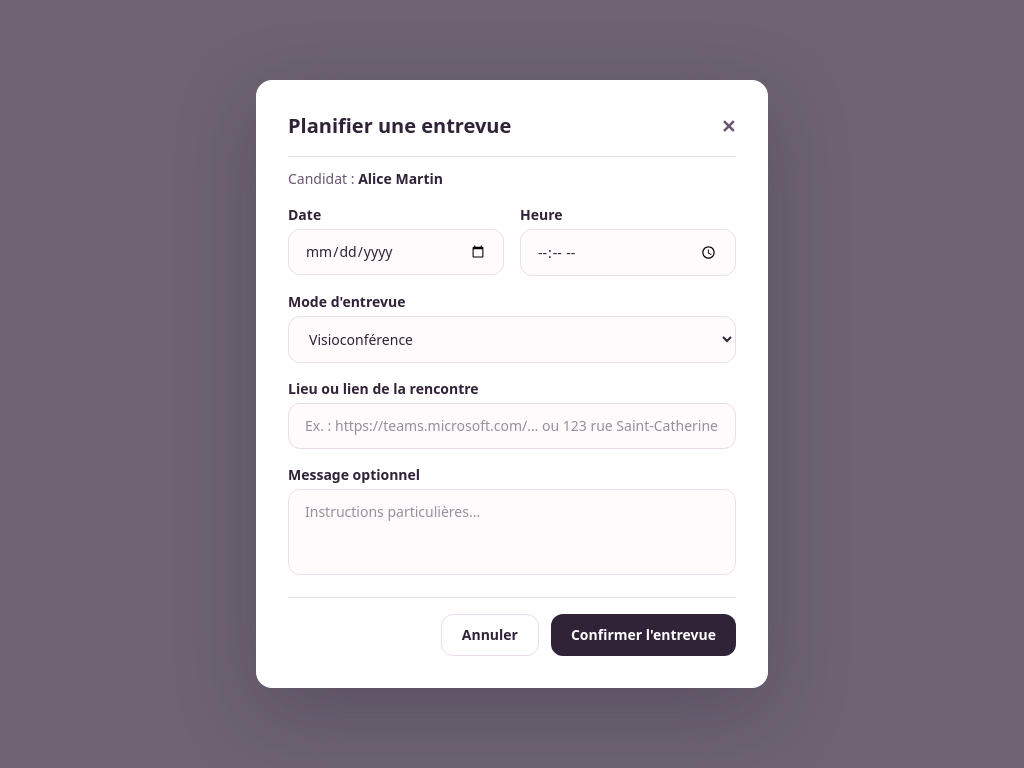
Test: En tant qu'employeur, je planifie une entrevue (formulaire) › refuse une date dans le passé
This screenshot has width=1024, height=768.
Step 1. Type "2020-01-01" into the date field → {"x": 396, "y": 252}, box [288, 229, 504, 275]
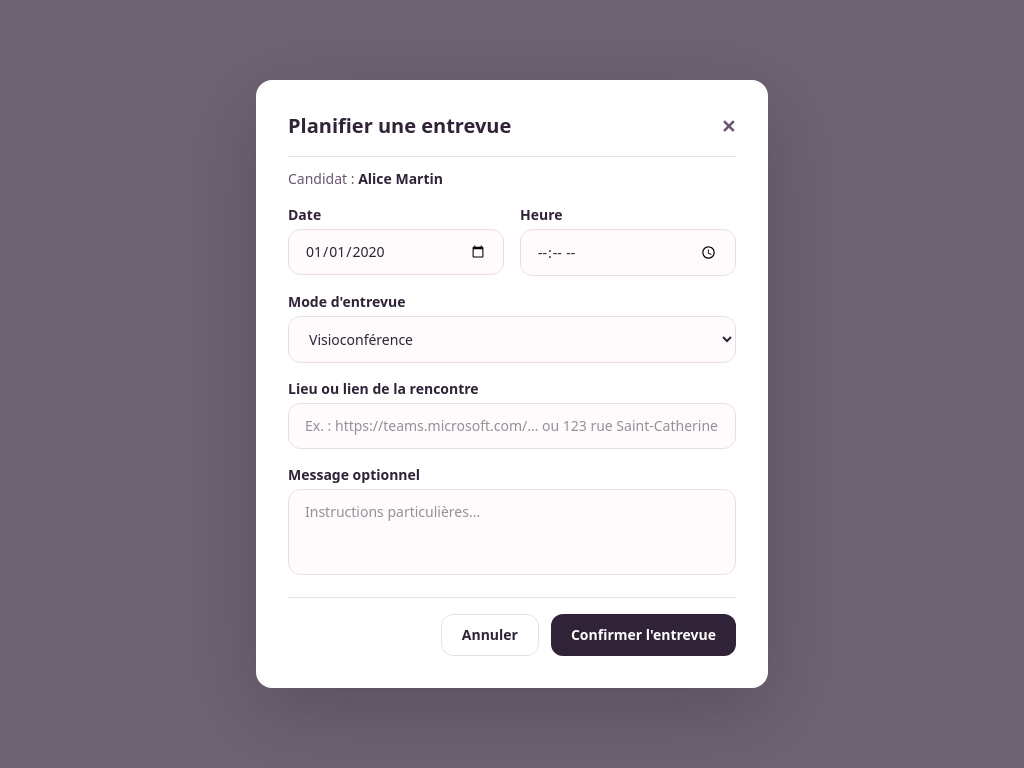
Step 2. Type "10:00" into the time field → {"x": 628, "y": 253}, box [520, 229, 736, 276]
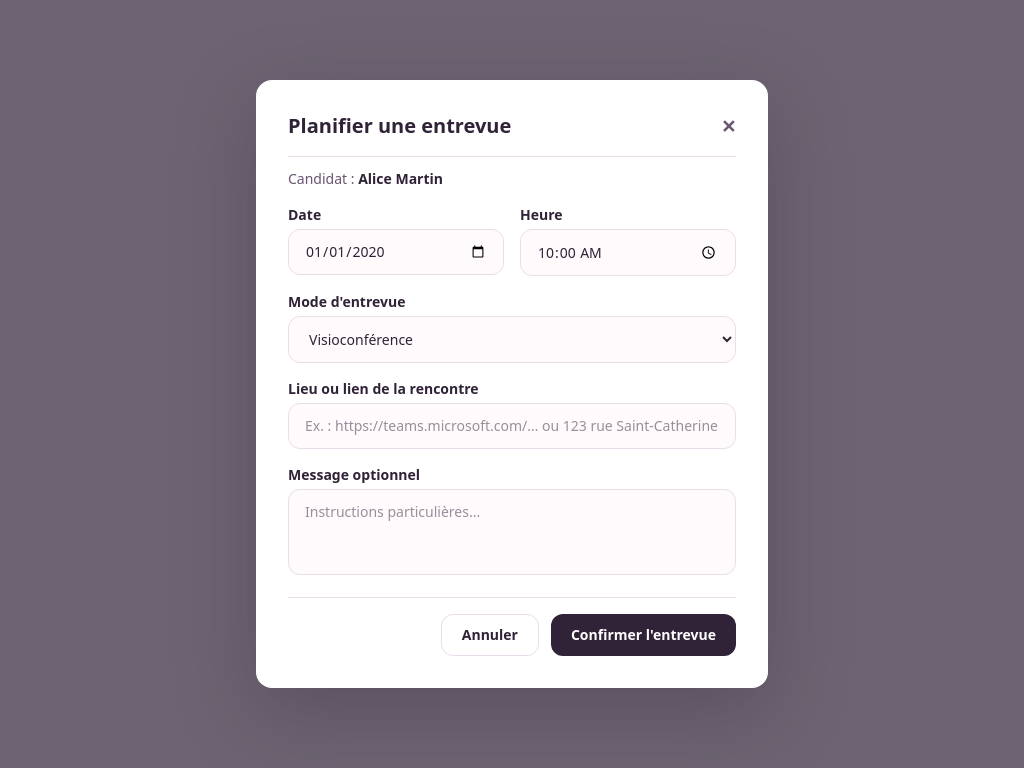
Step 3. Replace the text in the field with "123 rue Test" → {"x": 512, "y": 426}, box [288, 403, 736, 449]
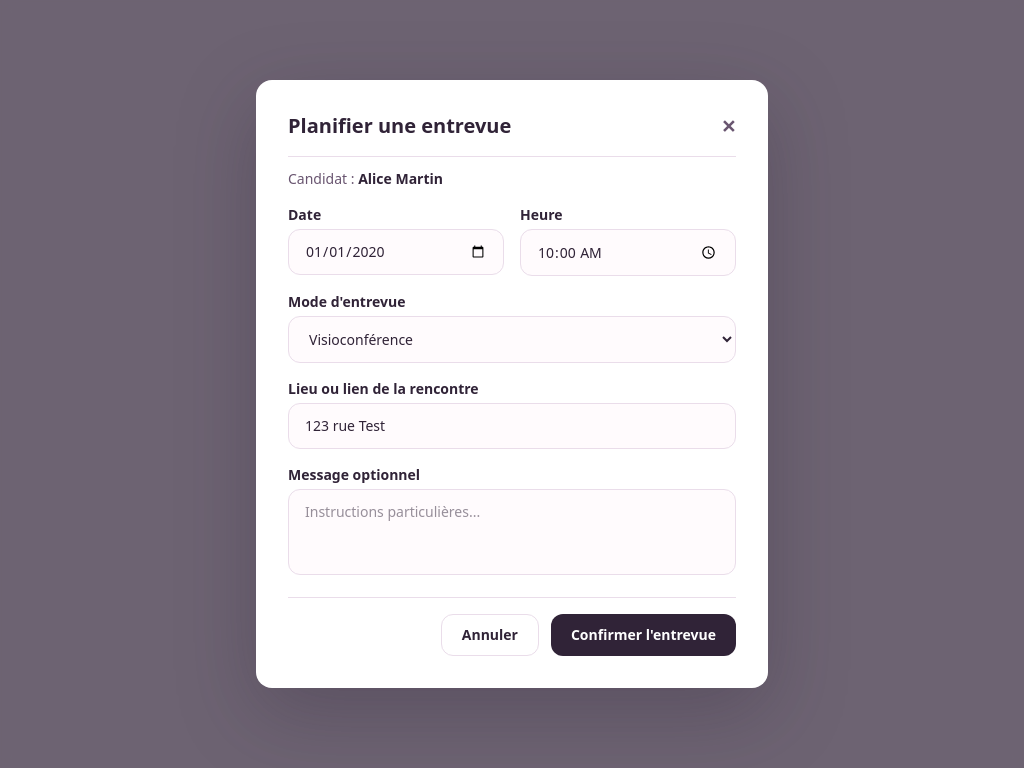
Step 4. Click the button "Confirmer l'entrevue" → {"x": 643, "y": 635}, box [551, 614, 736, 656]
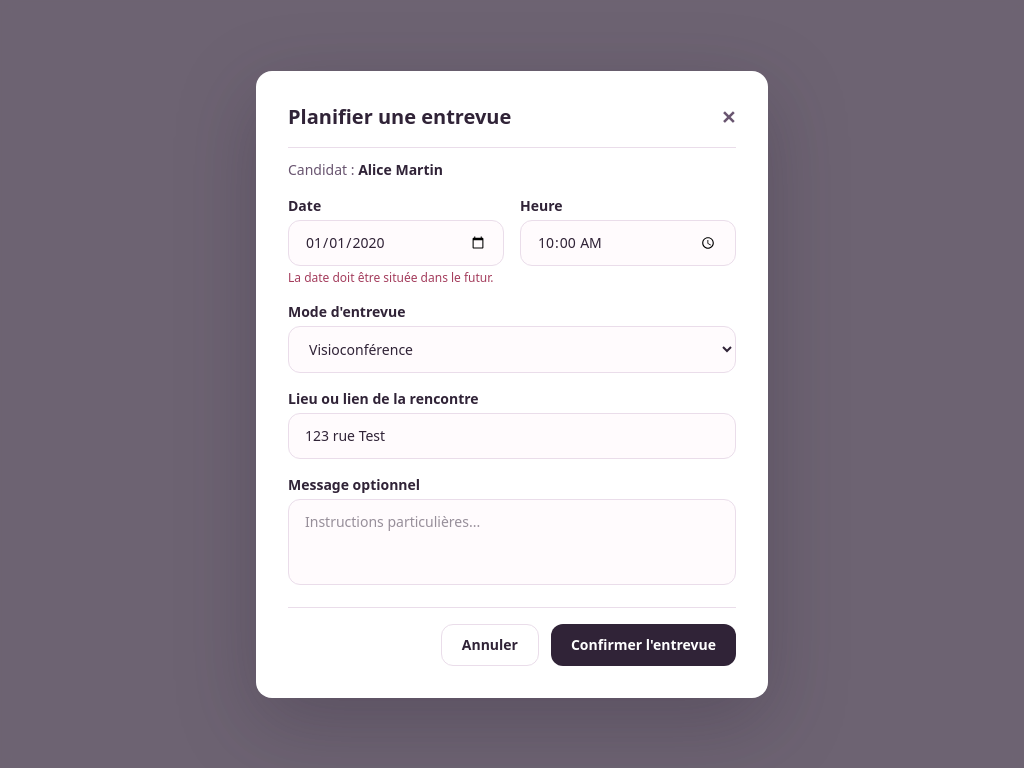
Expected: the text "La date doit être située dans le futur." is shown, [288, 270, 504, 286]
